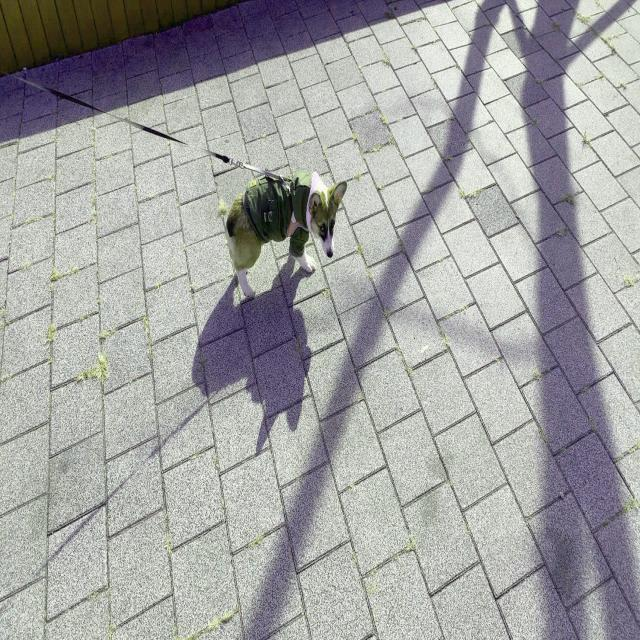Dog: (224, 167, 348, 300)
